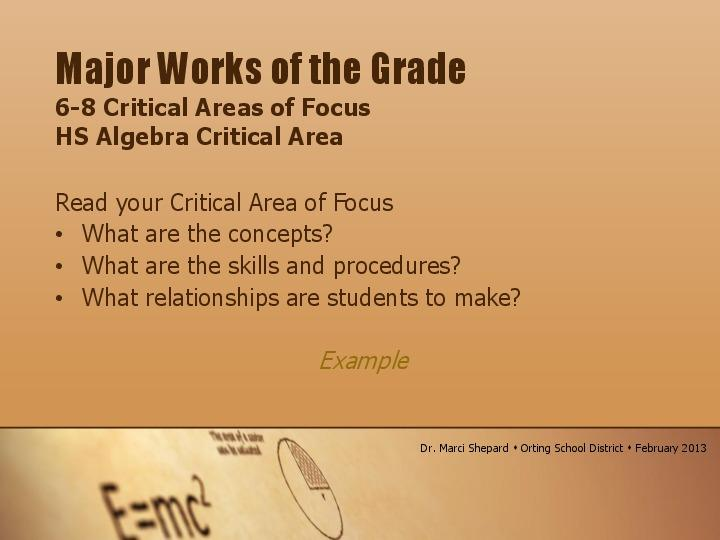paragraph: (45, 177, 552, 331)
title: (45, 41, 518, 160)
